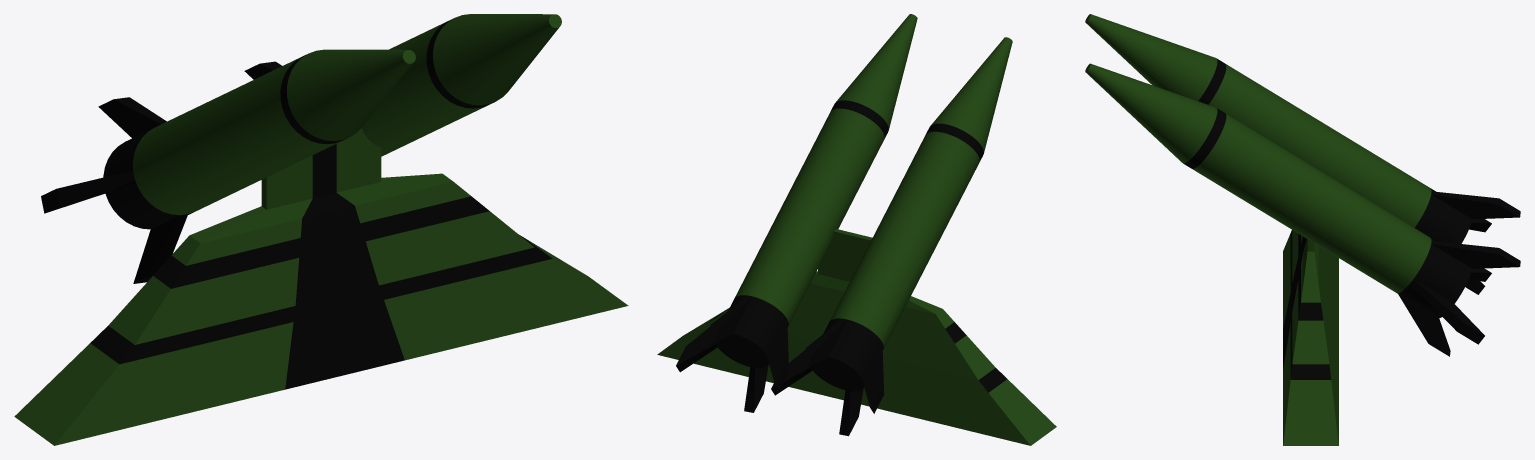
The model's file is ispitatel_scene_model_1.gltf.
3 views of the same model, side by side, from view 1: azimuth 30°, elevation 25°; view 2: azimuth 150°, elevation 25°; view 3: azimuth 270°, elevation 25° (orthographic). The views are drawn at different scales.
Visible parts, largest first — view 1: Куб, Цилиндр.001; view 2: Цилиндр.001, Куб; view 3: Цилиндр.001, Куб.
Boxes of the visible parts, x1=… form: Куб: x1=14, y1=128, x2=628, y2=445; Цилиндр.001: x1=41, y1=14, x2=561, y2=283; Цилиндр.001: x1=676, y1=14, x2=1012, y2=436; Куб: x1=657, y1=229, x2=1056, y2=445; Цилиндр.001: x1=1085, y1=14, x2=1520, y2=356; Куб: x1=1283, y1=230, x2=1338, y2=445.
Size of the model in its own units: 14.2 by 10.51 by 13.41.
